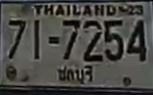1: (34, 19, 40, 58)
2: (83, 19, 102, 61)
4: (126, 19, 145, 60)
5: (103, 19, 122, 60)
7: (62, 19, 79, 59), (8, 19, 25, 58)
CBI: (56, 63, 94, 87)
